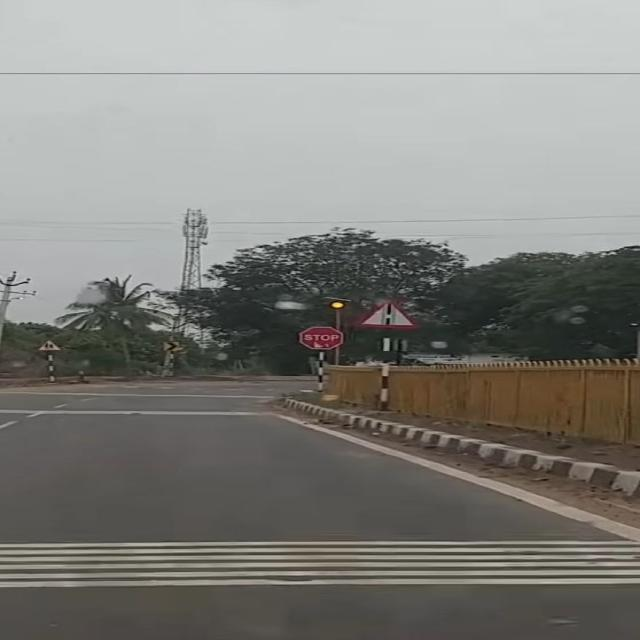gap_in_median: (356, 301, 417, 328)
stop: (299, 326, 345, 350)
